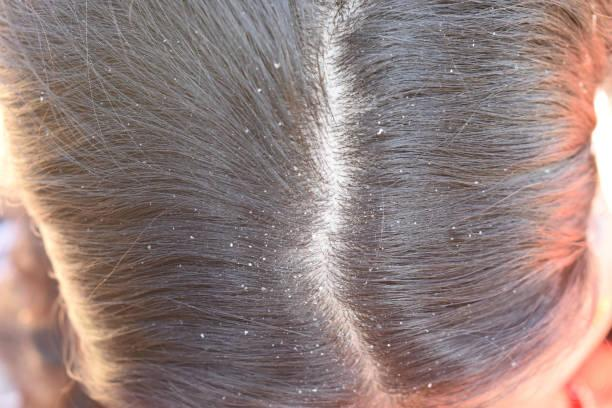dandruff: (443, 220, 497, 245), (177, 210, 201, 256), (361, 332, 400, 356), (220, 233, 250, 258), (359, 201, 385, 224), (262, 53, 294, 71), (372, 119, 395, 144), (225, 325, 262, 339), (281, 163, 315, 178), (269, 115, 298, 131), (249, 182, 276, 199), (468, 175, 489, 196), (234, 278, 254, 296), (361, 265, 388, 278), (438, 62, 461, 77), (237, 121, 253, 141), (255, 84, 272, 102), (285, 269, 305, 283), (132, 140, 156, 151), (35, 93, 51, 107), (189, 25, 199, 35)
